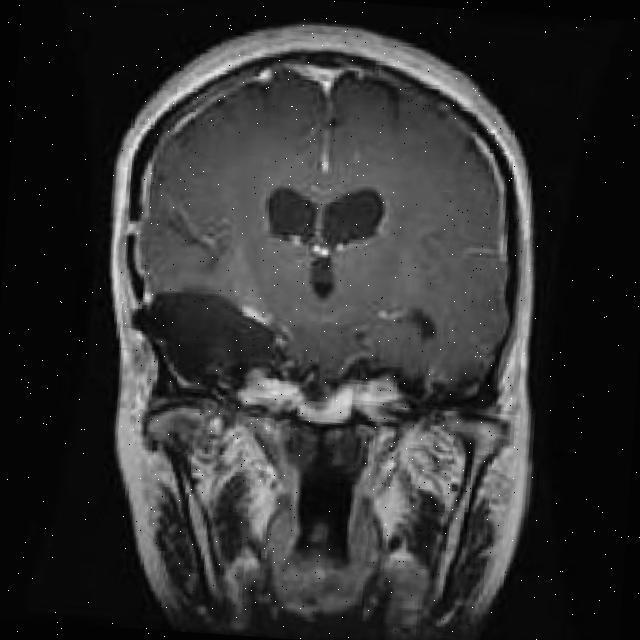MCI: (108, 248, 327, 408)
